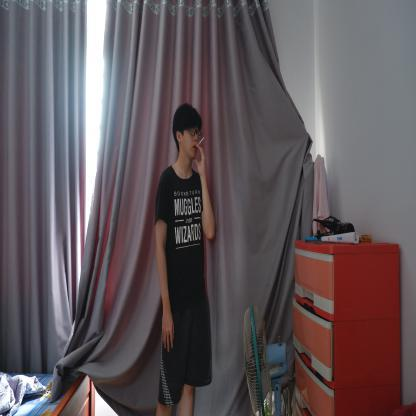cigarette: (198, 136, 204, 146)
person: (152, 100, 218, 415)
